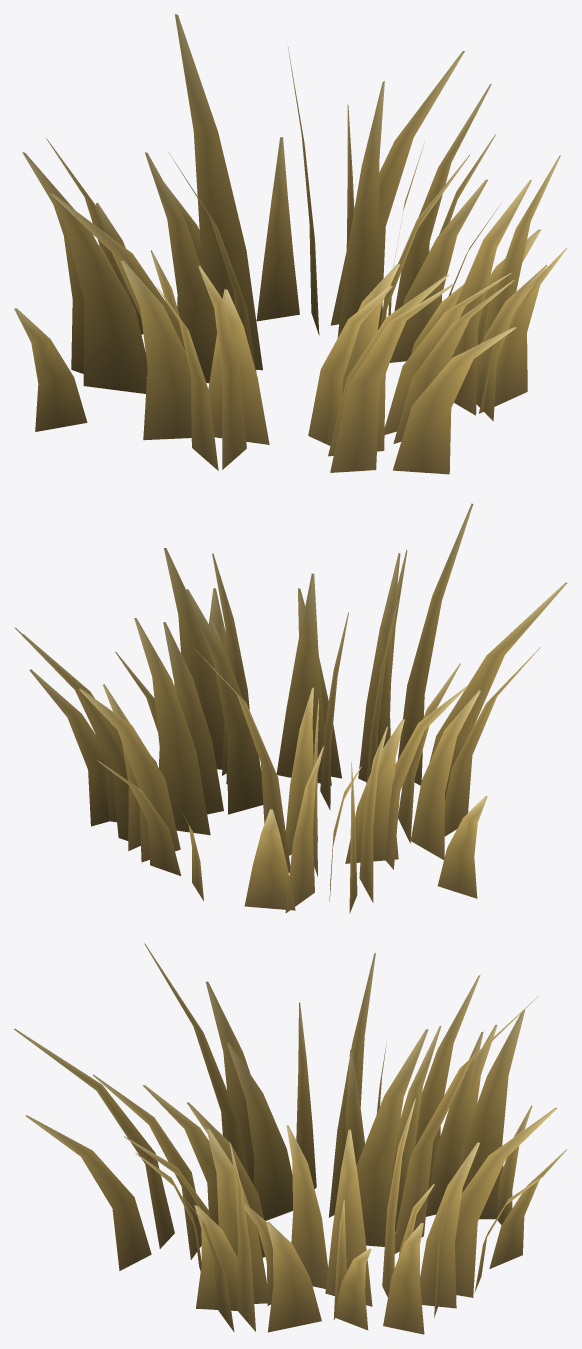
The model's file is GrassTuftDry.glb.
3 renders of one model, top to bottom at view 1: azimuth 30°, elevation 25°; view 2: azimuth 150°, elevation 25°; view 3: azimuth 270°, elevation 25°, orthographic. The views are drawn at different scales.
Visible parts, largest first — view 1: GrassTuft; view 2: GrassTuft; view 3: GrassTuft.
Part boxes in pixels (x1=…): GrassTuft: x1=14, y1=14, x2=567, y2=474; GrassTuft: x1=14, y1=503, x2=567, y2=913; GrassTuft: x1=14, y1=943, x2=567, y2=1334.
Size of the model in its own units: 0.5483 by 0.3057 by 0.5901.
1 material, 1 textured.
